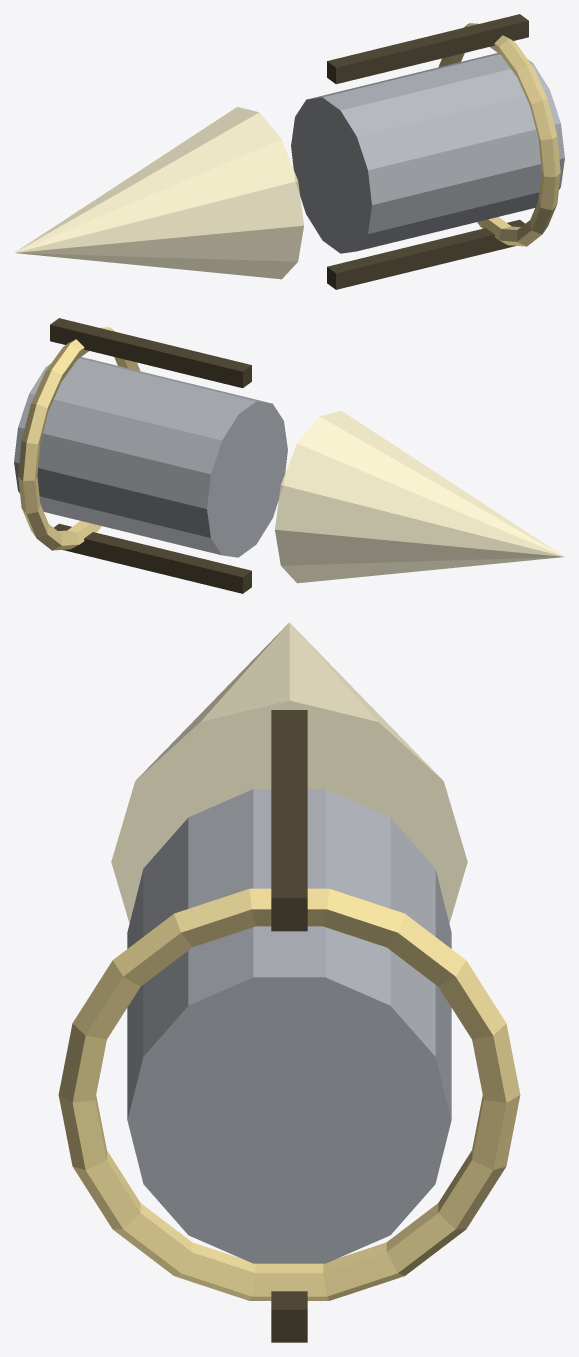
File: 06_skyship_engine.glb
The picture shows the model from 3 angles, top to bottom: view 1: azimuth 30°, elevation 25°; view 2: azimuth 150°, elevation 25°; view 3: azimuth 270°, elevation 25°; orthographic projection. The views are drawn at different scales.
Visible parts, largest first — view 1: engine_core, thruster_plume, engine_ring, mount_strut_r, mount_strut_l; view 2: engine_core, thruster_plume, engine_ring, mount_strut_r, mount_strut_l; view 3: engine_core, engine_ring, thruster_plume, mount_strut_r, mount_strut_l.
Part boxes in pixels (bbox=[...]): engine_core: bbox=[291, 53, 564, 253]; thruster_plume: bbox=[14, 107, 303, 279]; engine_ring: bbox=[438, 23, 560, 246]; mount_strut_r: bbox=[327, 14, 528, 84]; mount_strut_l: bbox=[327, 219, 524, 289]; engine_core: bbox=[14, 357, 287, 557]; thruster_plume: bbox=[275, 411, 564, 583]; engine_ring: bbox=[18, 327, 140, 550]; mount_strut_r: bbox=[50, 318, 251, 388]; mount_strut_l: bbox=[54, 523, 251, 593]; engine_core: bbox=[127, 789, 451, 1263]; engine_ring: bbox=[58, 888, 520, 1300]; thruster_plume: bbox=[111, 622, 467, 923]; mount_strut_r: bbox=[271, 710, 307, 931]; mount_strut_l: bbox=[271, 1291, 307, 1342].
Bounding box in the file's own units: 3.49 × 1.45 × 1.37.
